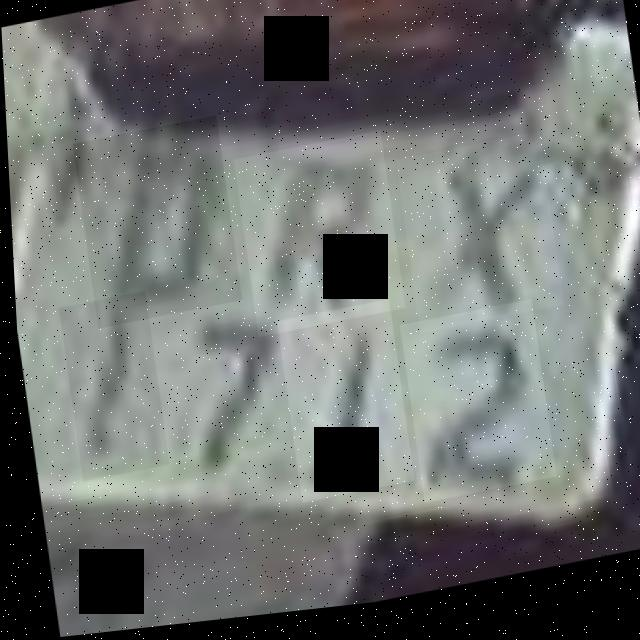1: (272, 306, 408, 510), (55, 292, 164, 484)
2: (395, 310, 551, 514)
7: (150, 300, 300, 499)
R: (231, 137, 402, 343)
U: (70, 118, 239, 331)
X: (393, 141, 560, 343)
